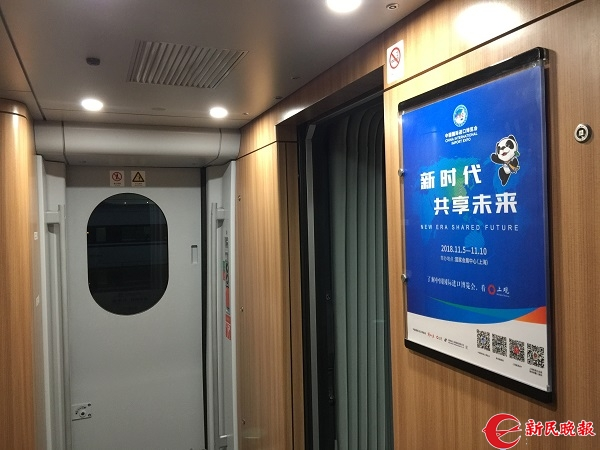bill: (403, 60, 549, 395)
